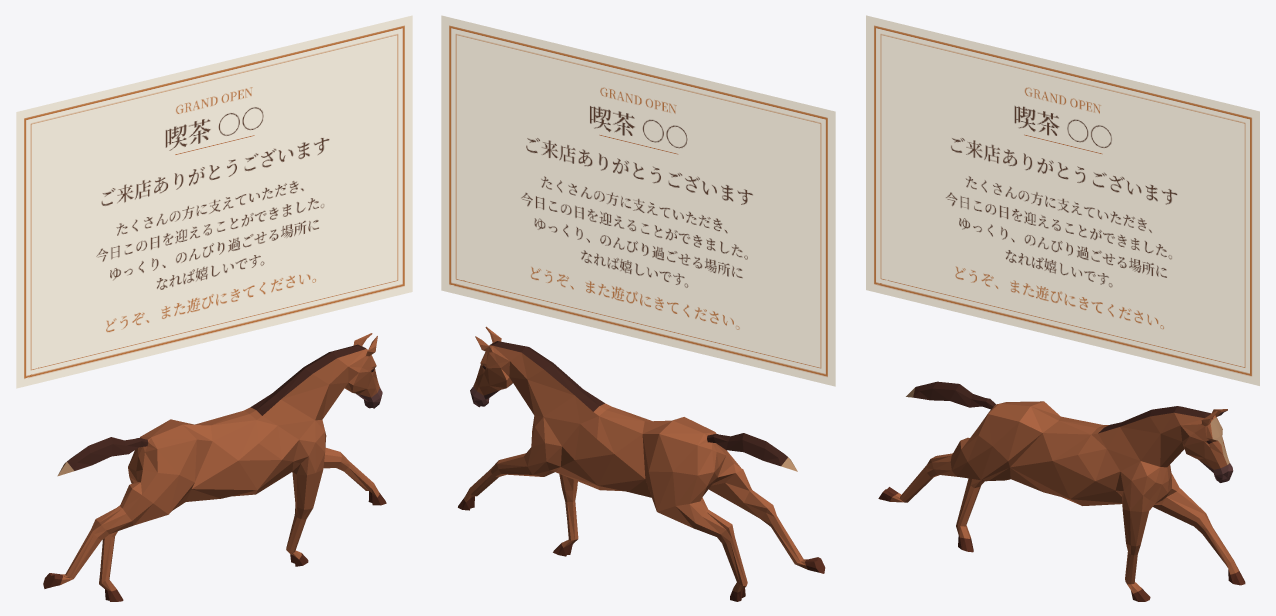
Rendered from cafe-thanks.glb.
The picture shows the model from 3 angles, left to right: view 1: azimuth 30°, elevation 25°; view 2: azimuth 150°, elevation 25°; view 3: azimuth 330°, elevation 25°; orthographic projection.
Visible parts, largest first — view 1: CardFront, HorseGroup; view 2: CardBack, HorseGroup; view 3: CardFront, HorseGroup.
Boxes of the visible parts, x1,y1,x2,y2 form: CardFront: [16, 15, 412, 388]; HorseGroup: [43, 333, 386, 601]; CardBack: [441, 15, 835, 386]; HorseGroup: [458, 326, 825, 601]; CardFront: [866, 15, 1259, 385]; HorseGroup: [878, 381, 1245, 601].
Bounding box in the file's own units: 0.36 × 0.4492 × 0.0611.
Materials: 2 (1 with a texture image).
